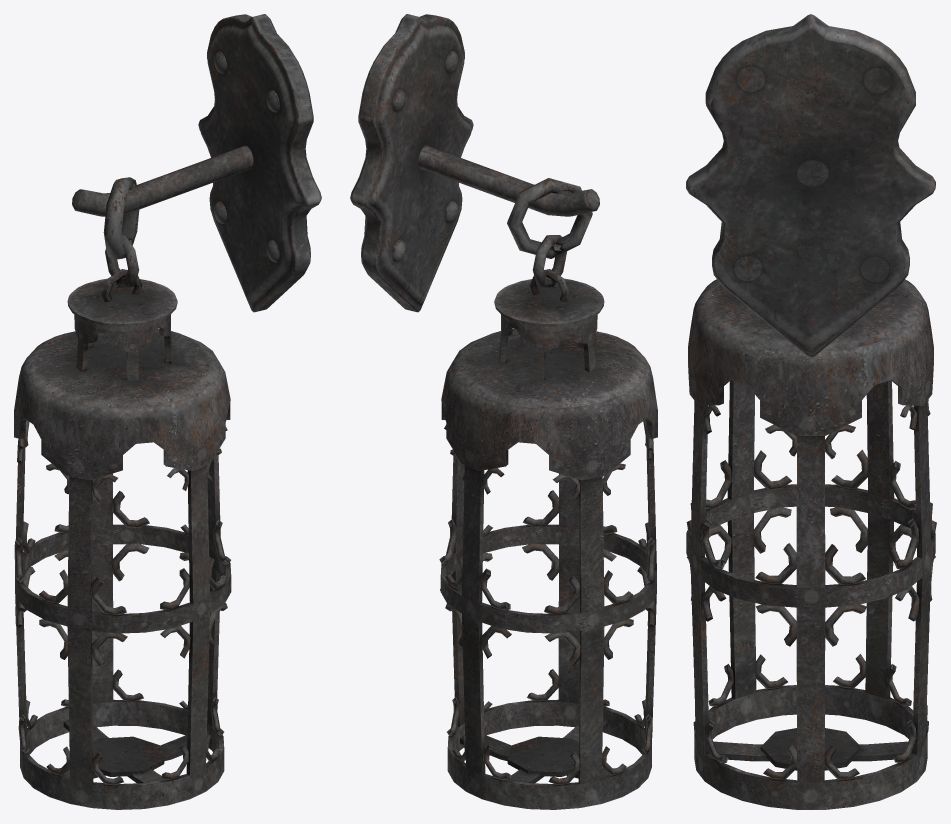
File: sm_Lantern_01_02.fbx
3 renders of one model, left to right at view 1: azimuth 30°, elevation 25°; view 2: azimuth 150°, elevation 25°; view 3: azimuth 270°, elevation 25°, orthographic. The views are drawn at different scales.
Visible parts, largest first — view 1: sm_Lantern_01_02_LOD0; view 2: sm_Lantern_01_02_LOD0; view 3: sm_Lantern_01_02_LOD0.
Boxes of the visible parts, x1,y1,x2,y2 form: sm_Lantern_01_02_LOD0: [14, 14, 321, 809]; sm_Lantern_01_02_LOD0: [350, 14, 657, 809]; sm_Lantern_01_02_LOD0: [686, 14, 936, 809].
Bounding box in the file's own units: 26.72 × 21.01 × 75.76.
